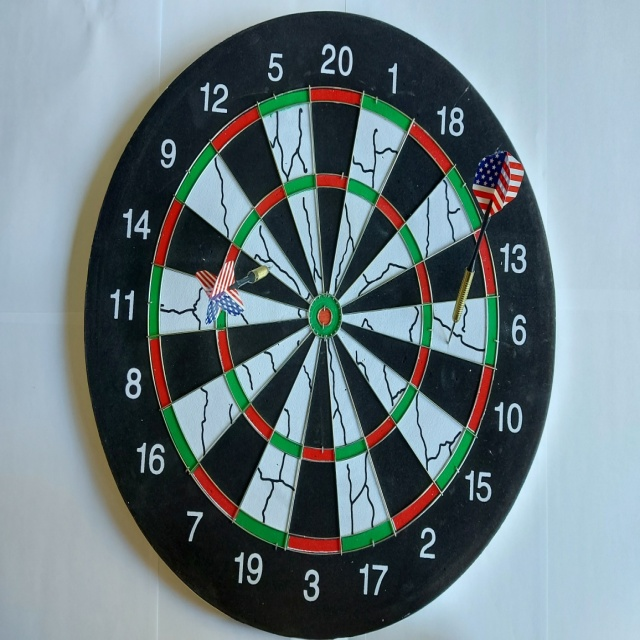Dart: (442, 140, 531, 351), (188, 248, 280, 328)
